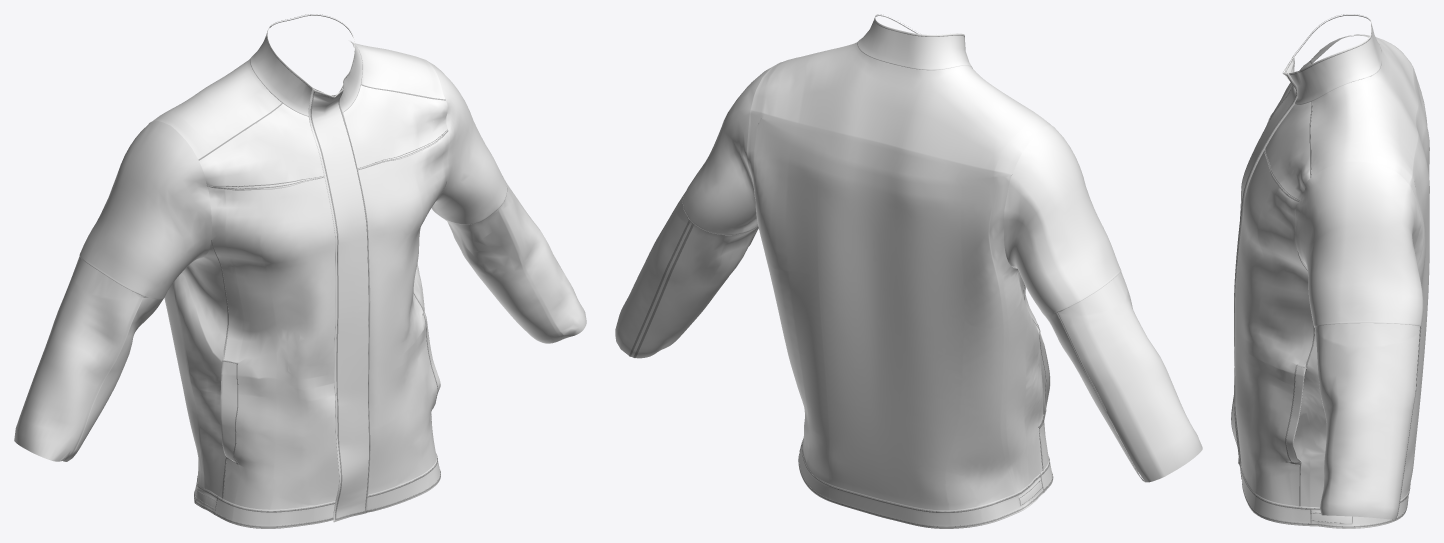
Rendered from Jac_Main.glb.
The picture shows the model from 3 angles, left to right: view 1: azimuth 30°, elevation 25°; view 2: azimuth 150°, elevation 25°; view 3: azimuth 270°, elevation 25°; orthographic projection. The views are drawn at different scales.
Visible parts, largest first — view 1: Jac_Main.001, Jac_Rope_Main.001; view 2: Jac_Main.001, Jac_Rope_Main.001; view 3: Jac_Main.001, Jac_Rope_Main.001.
Boxes of the visible parts, <box> form: Jac_Main.001: <box>14,14,586,528</box>; Jac_Rope_Main.001: <box>194,15,448,527</box>; Jac_Main.001: <box>615,14,1202,528</box>; Jac_Rope_Main.001: <box>629,15,1142,527</box>; Jac_Main.001: <box>1231,14,1429,528</box>; Jac_Rope_Main.001: <box>1231,15,1421,527</box>.
Bounding box in the file's own units: 1.69 × 1.33 × 0.5227.
Materials: 2 (2 with a texture image).
